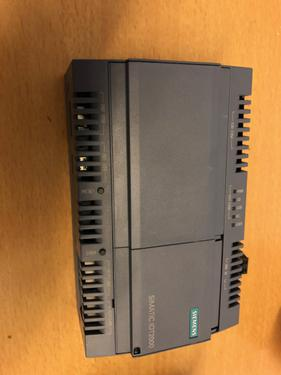device: (64, 58, 254, 359)
